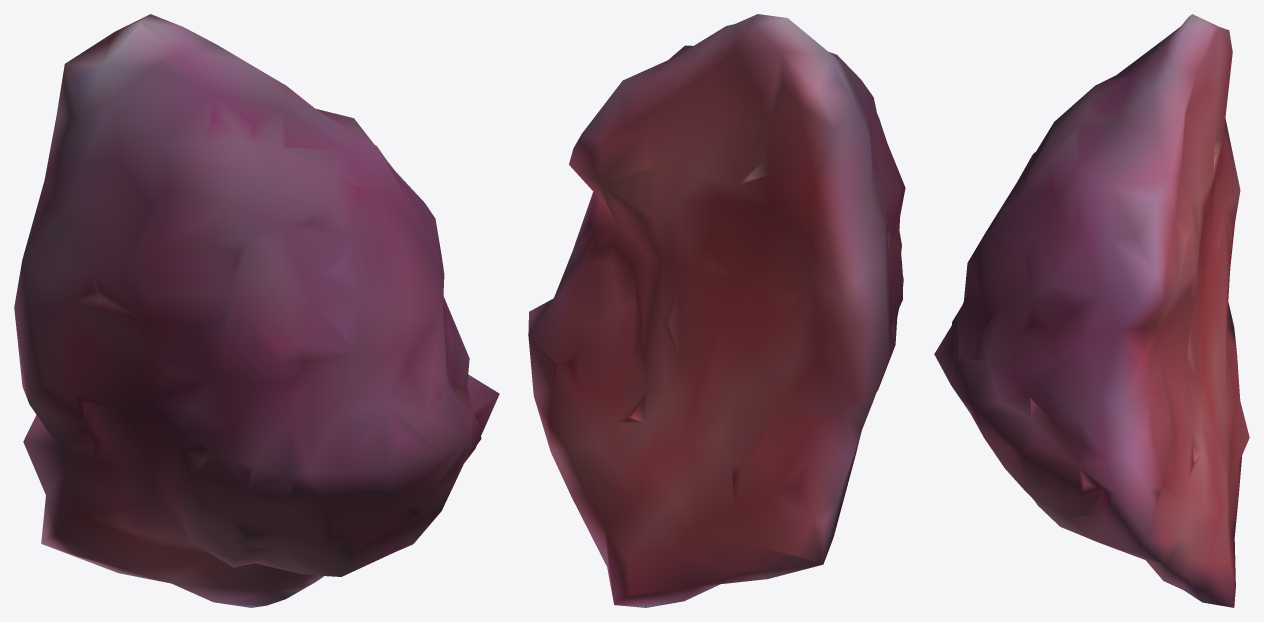
The model's file is fragmento_do.glb.
The picture shows the model from 3 angles, left to right: view 1: azimuth 30°, elevation 25°; view 2: azimuth 150°, elevation 25°; view 3: azimuth 270°, elevation 25°; orthographic projection. The views are drawn at different scales.
Bounding box in the file's own units: 0.6937 × 0.9953 × 0.5351.
